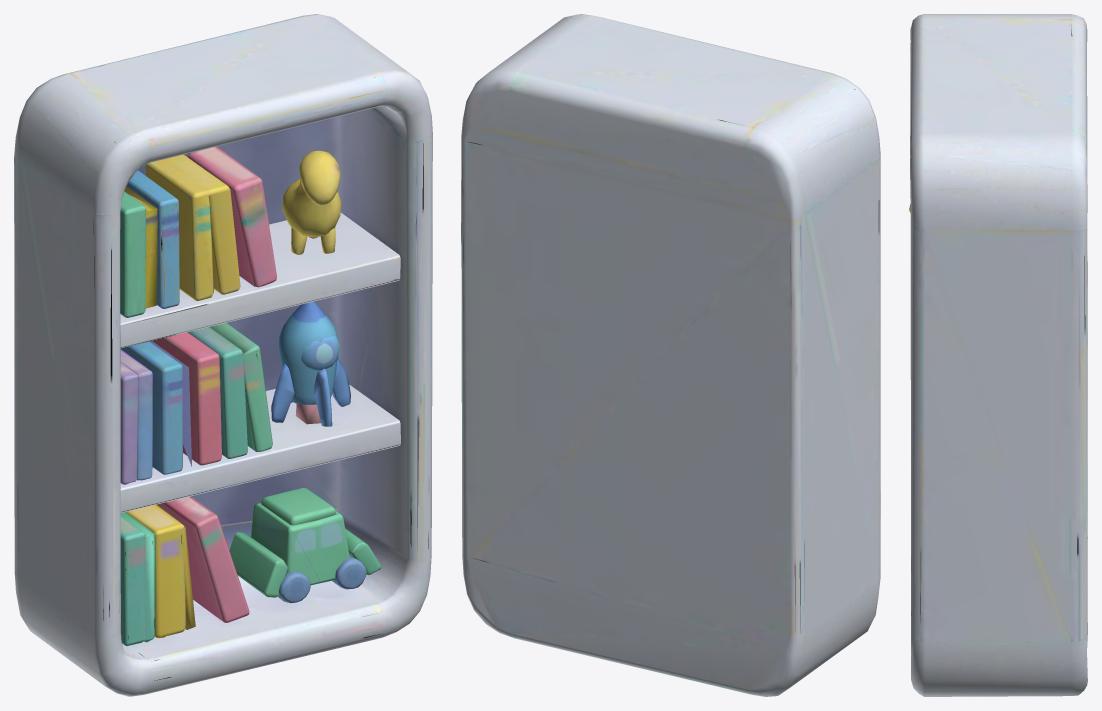
File: bookshelf.glb
3 views of the same model, side by side, from view 1: azimuth 30°, elevation 25°; view 2: azimuth 150°, elevation 25°; view 3: azimuth 270°, elevation 25° (orthographic).
Parts seen in each view (by area): view 1: geometry_0; view 2: geometry_0; view 3: geometry_0.
Boxes of the visible parts, x1=… form: geometry_0: x1=14, y1=14, x2=432, y2=696; geometry_0: x1=461, y1=14, x2=880, y2=696; geometry_0: x1=909, y1=14, x2=1087, y2=696.
Bounding box in the file's own units: 0.6248 × 0.9996 × 0.2905.
Materials: 1 (1 with a texture image).
